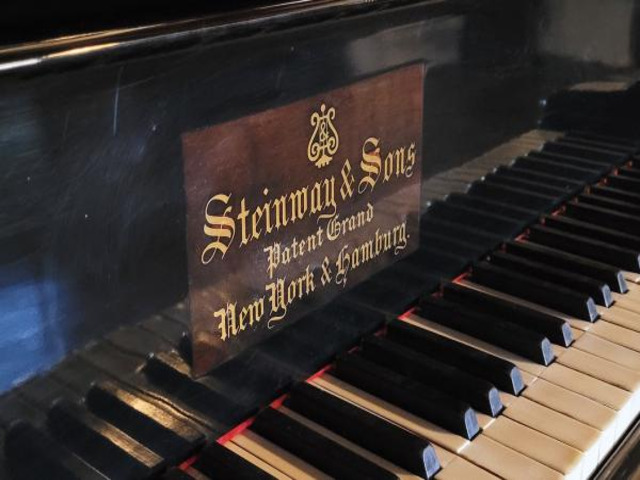Piano: (4, 3, 637, 477)
